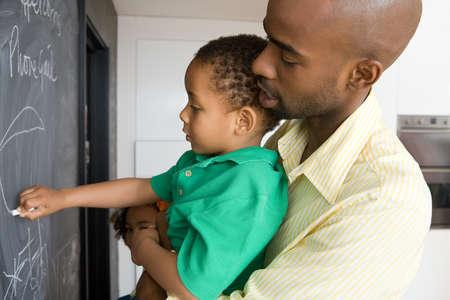person: (17, 33, 287, 300)
